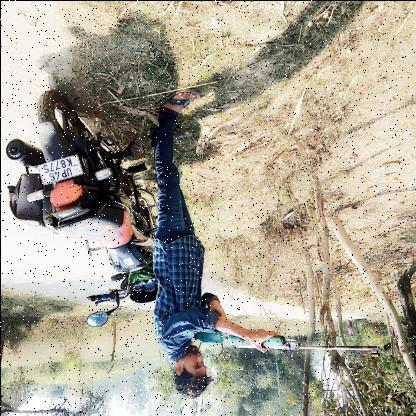rifle: (183, 320, 381, 358)
